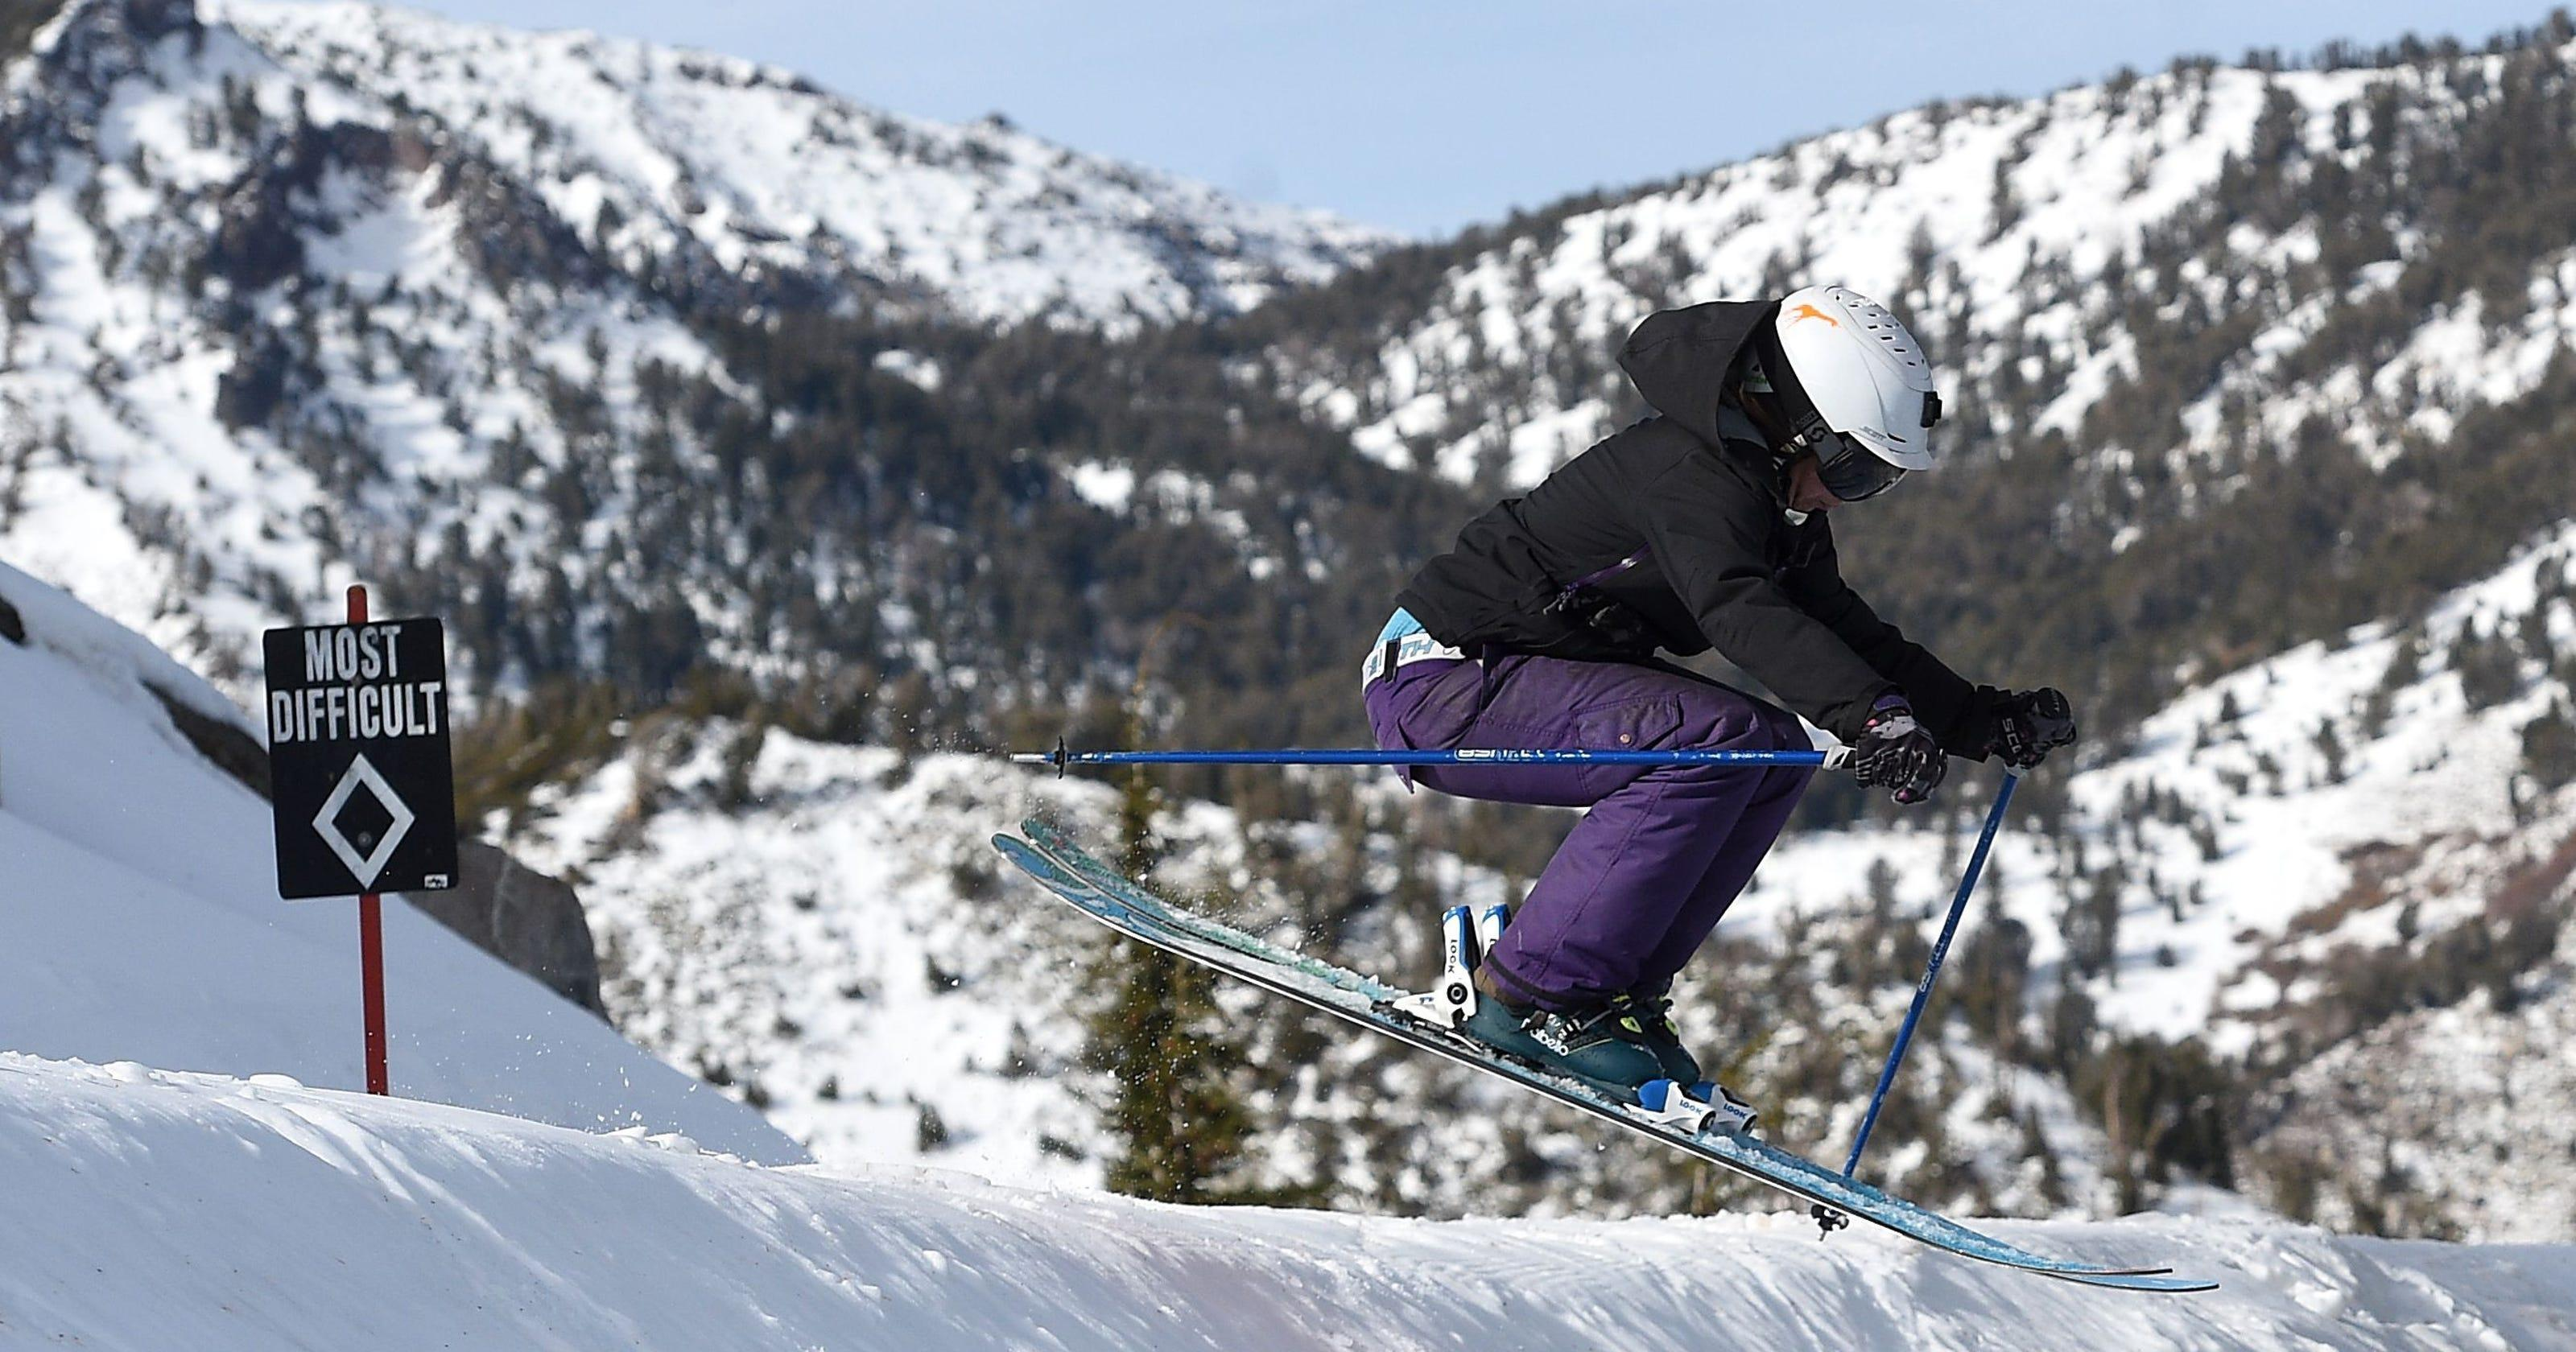Skis: (935, 688, 2239, 1321)
